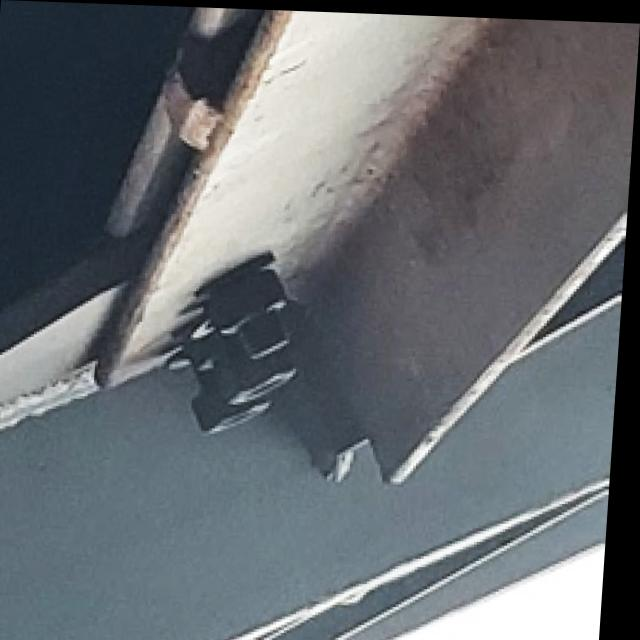Loose bolt: (177, 329, 297, 457), (184, 315, 313, 418)
Rusty bolt: (196, 239, 308, 385)
